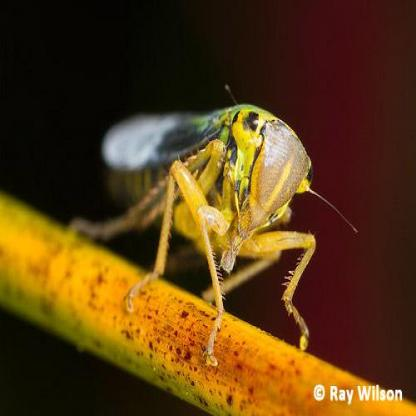Green-Leafhopper: (58, 104, 322, 362)
